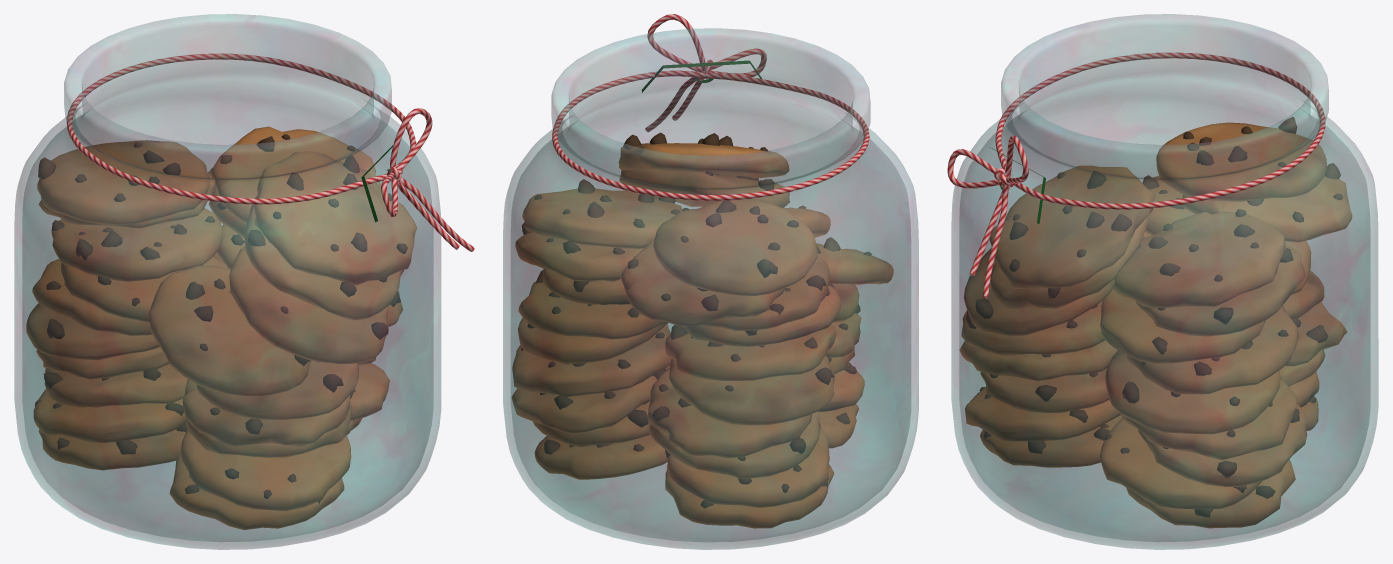
File: cookies.glb
3 renders of one model, left to right at view 1: azimuth 30°, elevation 25°; view 2: azimuth 150°, elevation 25°; view 3: azimuth 270°, elevation 25°, orthographic. The views are drawn at different scales.
Visible parts, largest first — view 1: cookies_cookie_0; view 2: cookies_cookie_0; view 3: cookies_cookie_0.
Part boxes in pixels (x1,y1,x2,y2): cookies_cookie_0: (14,14,474,549); cookies_cookie_0: (503,14,918,549); cookies_cookie_0: (947,14,1378,549).
Size of the model in its own units: 0.218 by 0.2231 by 0.22.
Materials: 1 (1 with a texture image).
